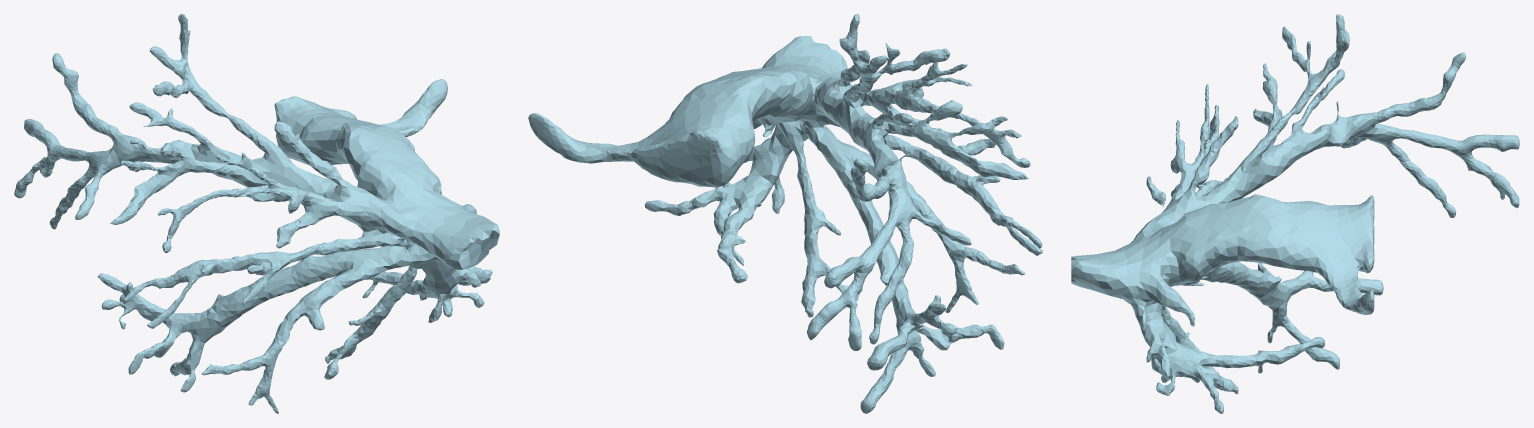
The model's file is venoussystem.obj.
The picture shows the model from 3 angles, left to right: view 1: azimuth 30°, elevation 25°; view 2: azimuth 150°, elevation 25°; view 3: azimuth 270°, elevation 25°; orthographic projection. The views are drawn at different scales.
Visible parts, largest first — view 1: grp1; view 2: grp1; view 3: grp1.
Part boxes in pixels (box(x1,y1,x2,y2)): grp1: box(14, 14, 499, 413); grp1: box(528, 14, 1042, 413); grp1: box(1071, 14, 1519, 413).
Size of the model in its own units: 150 by 131 by 148.
